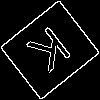K: (25, 25, 79, 82)
